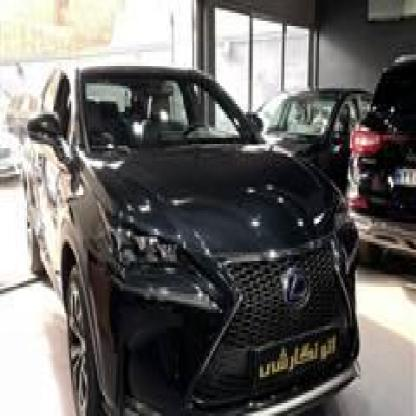Car: (17, 62, 362, 416), (237, 78, 378, 202), (357, 49, 416, 272)
